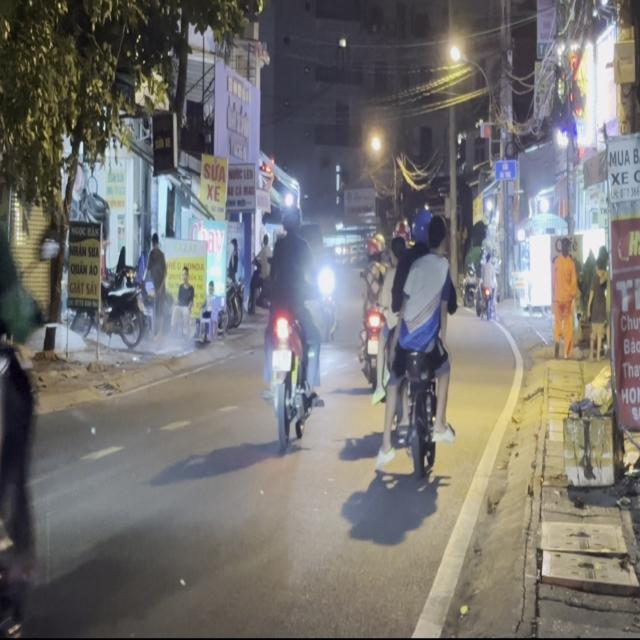helmet: (410, 207, 432, 251), (279, 200, 301, 235)
licenseplate: (0, 84, 47, 639), (374, 205, 459, 482), (258, 196, 323, 450)
motorcyclist: (426, 212, 448, 254)
nohelmet: (271, 349, 291, 370)
